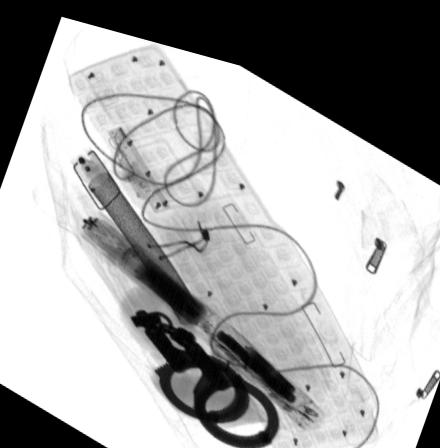Baton: (75, 202, 326, 414)
HandCuffs: (129, 300, 282, 436)
